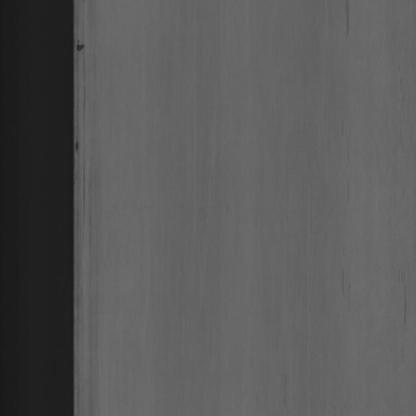oil_spot: (74, 132, 83, 162), (74, 36, 83, 65)
